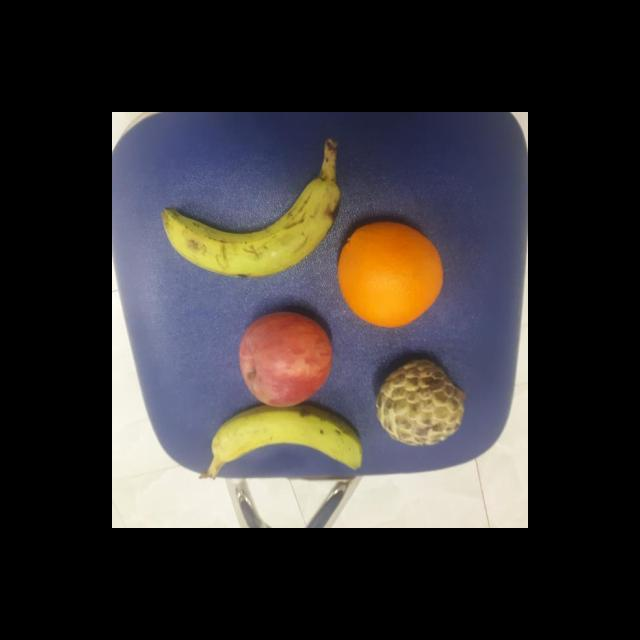Sakya fruit: (374, 357, 466, 448)
apple: (235, 311, 333, 408)
banana: (161, 174, 343, 281), (207, 406, 367, 476)
orange: (332, 219, 446, 329)
